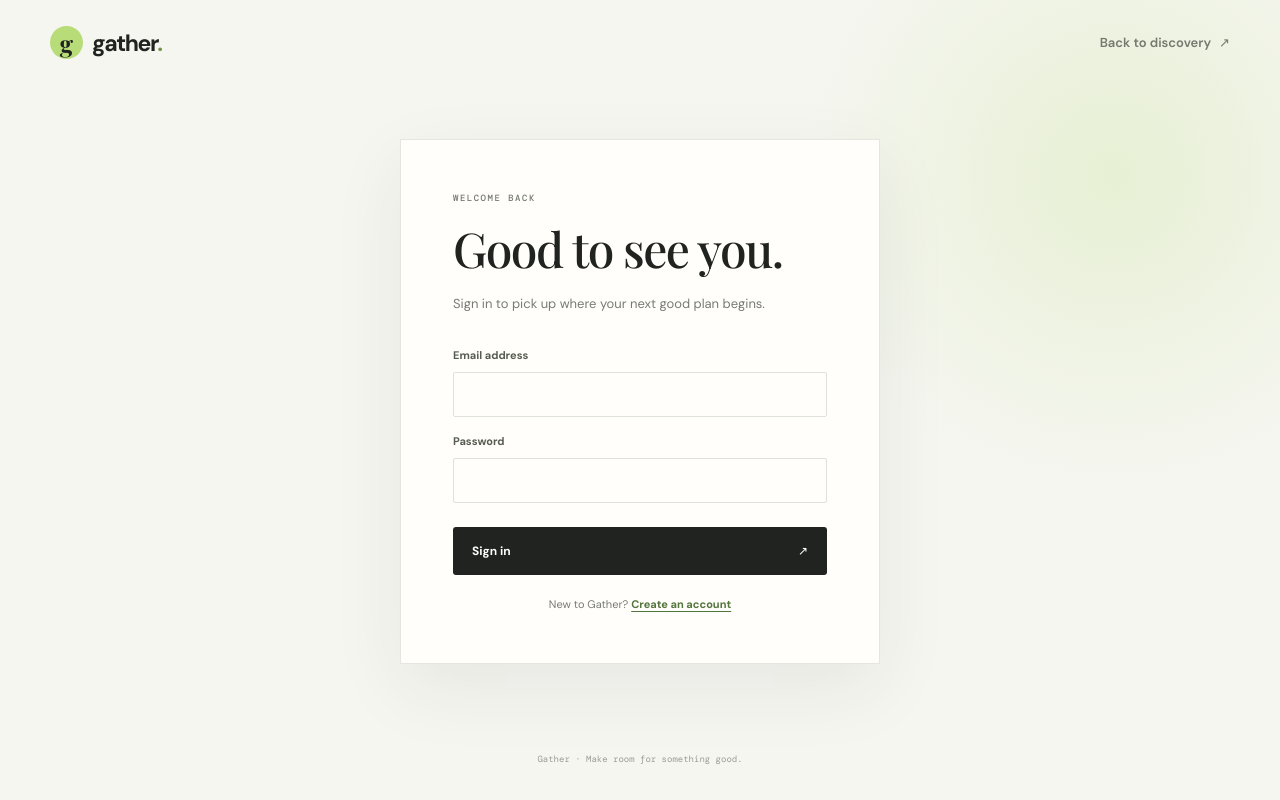
Scenario: authentication and role routing › logs in and redirects to the dashboard for the backend role
The image size is (1280, 800).
In the field labelled "Email address": (640,394) [453,372,827,416], type "casey@example.com"
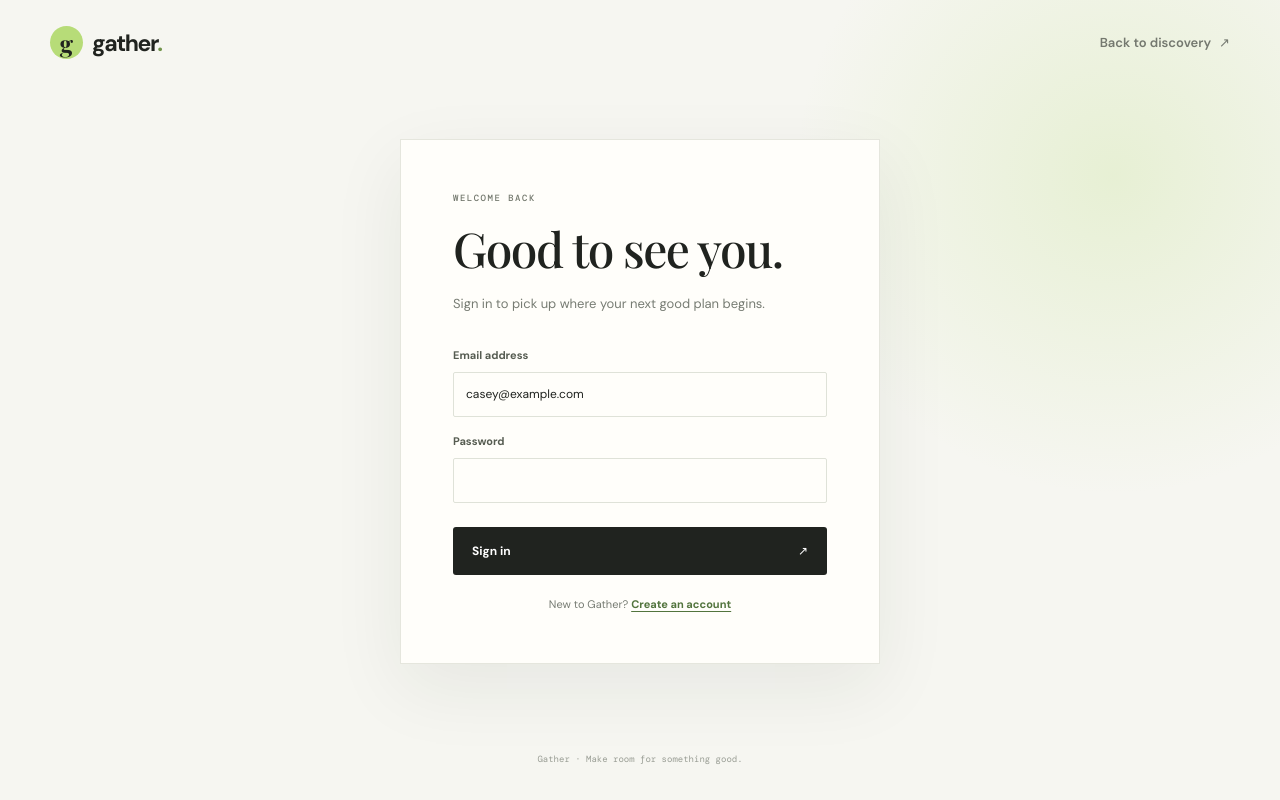
In the password field labelled "Password": (640,480) [453,458,827,502], type "StrongPassword123!"
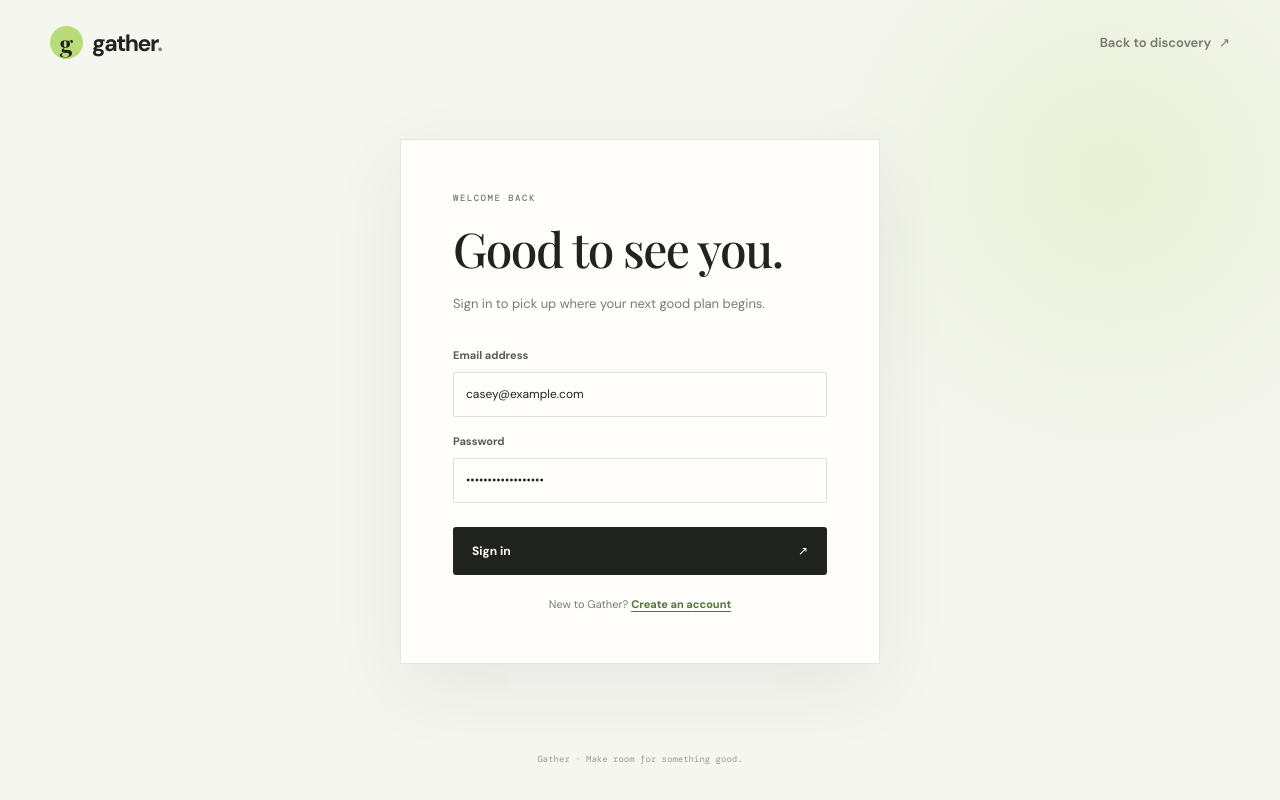
Click the button "Sign in ↗": (491,551) [453,526,827,574]
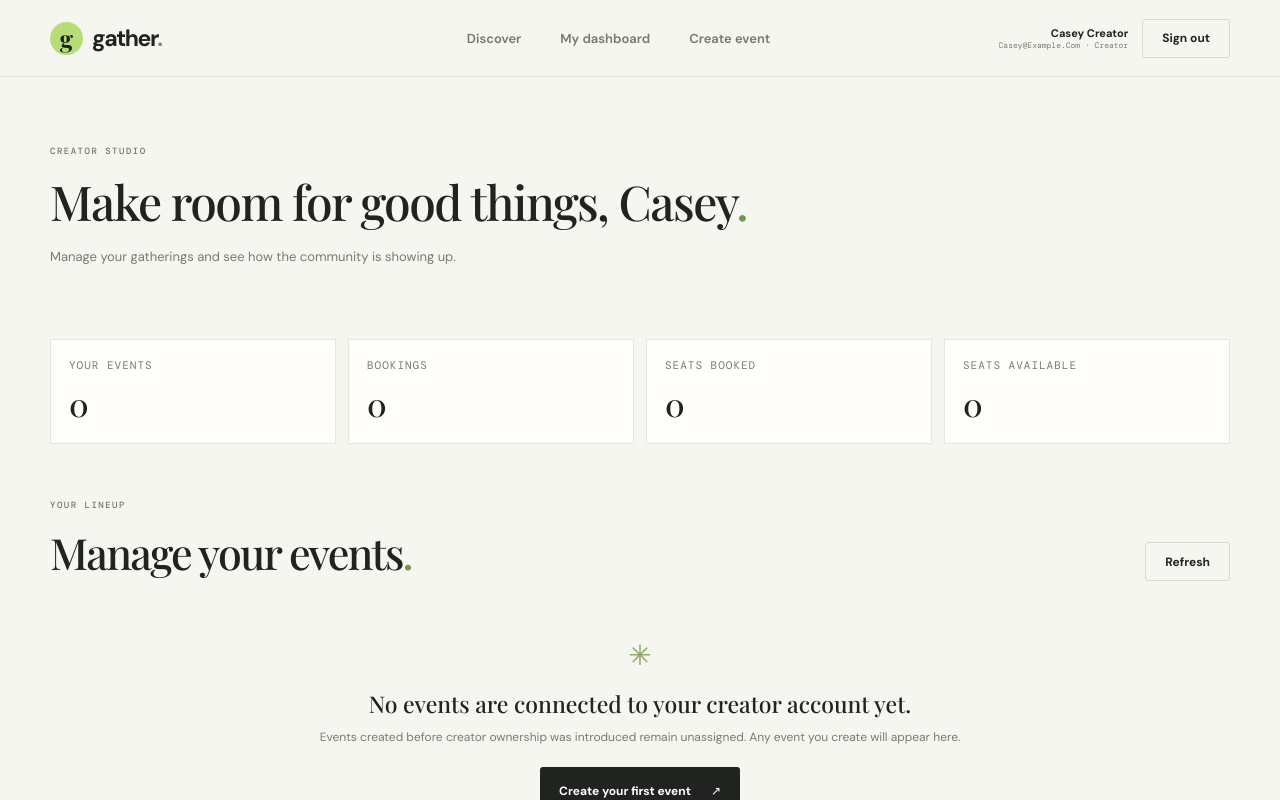
Check: the text "CREATOR STUDIO" is shown, box [50,145,147,157]
